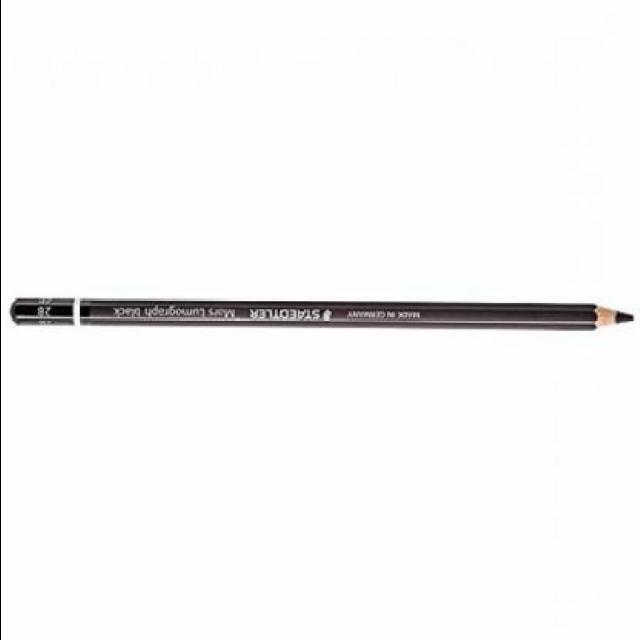pencil: (569, 288, 640, 344)
